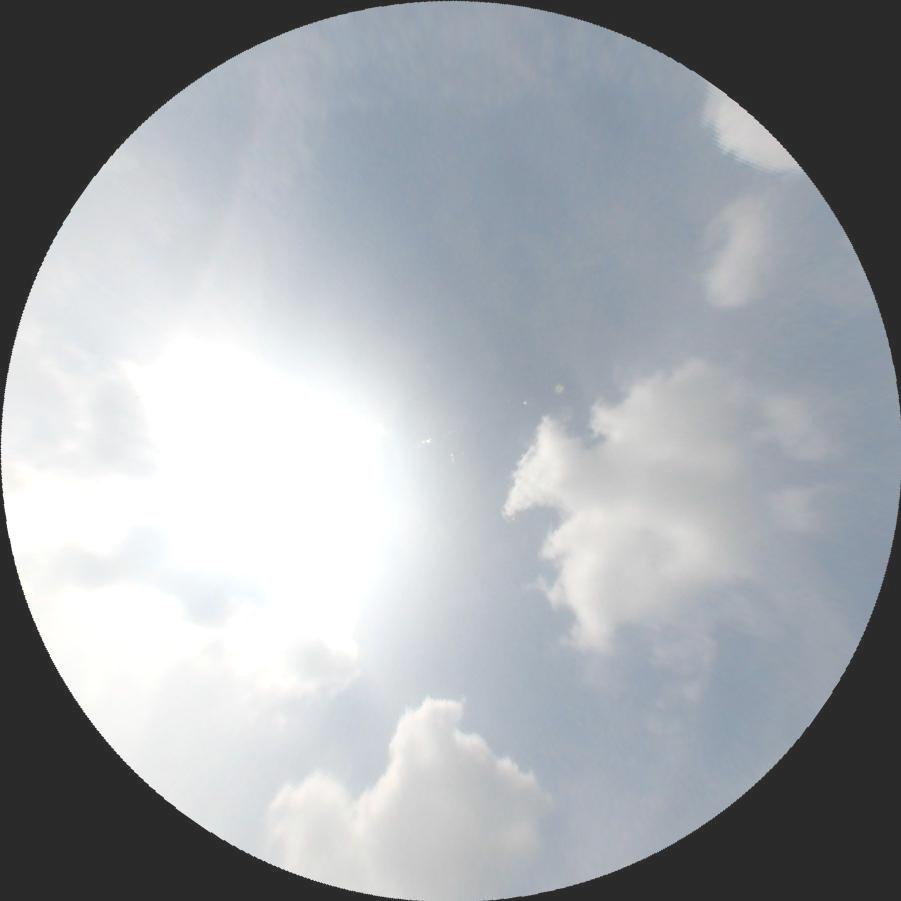sun: (155, 403, 365, 585)
